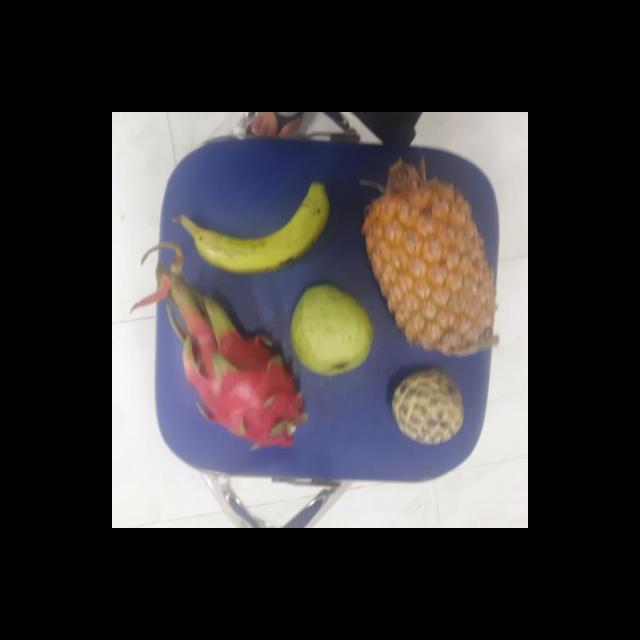Sakya fruit: (388, 369, 464, 443)
guava: (286, 286, 374, 378)
pineapple: (364, 168, 496, 359)
pitaya: (182, 329, 306, 449)
